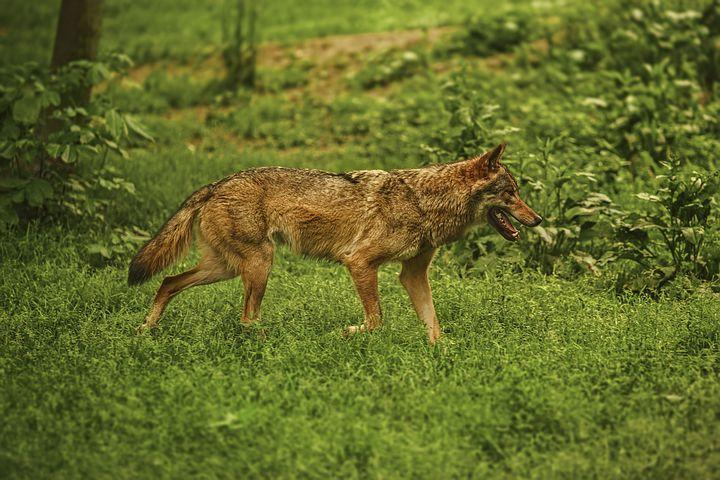fox: (129, 140, 544, 344)
